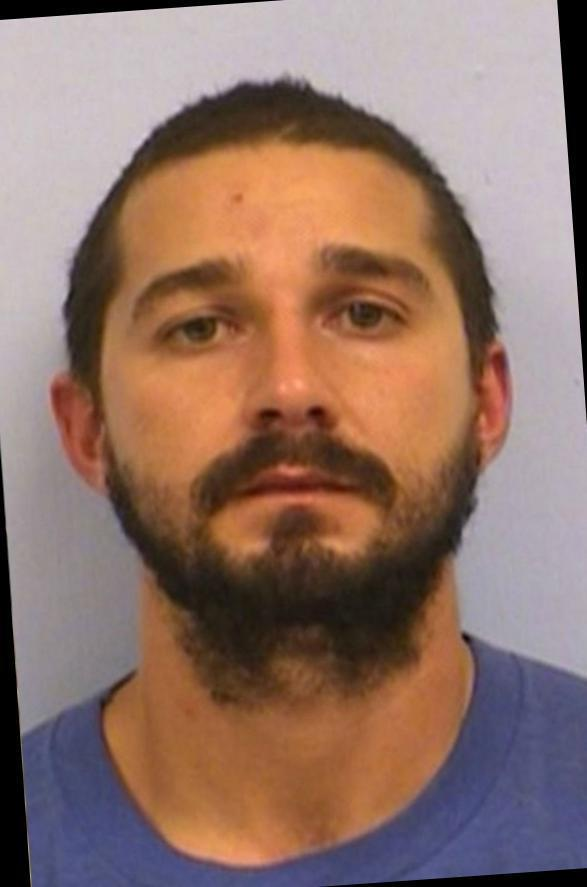Drunk: (123, 164, 455, 597)
